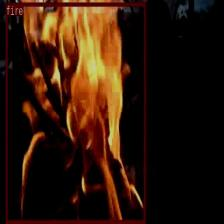fire: (5, 2, 145, 222)
